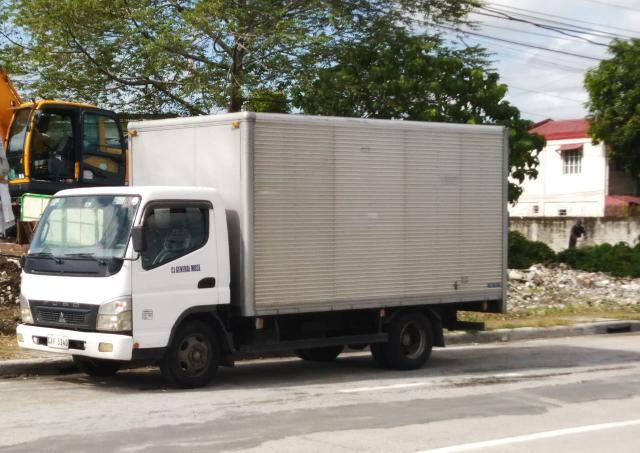truck: (0, 109, 515, 390)
